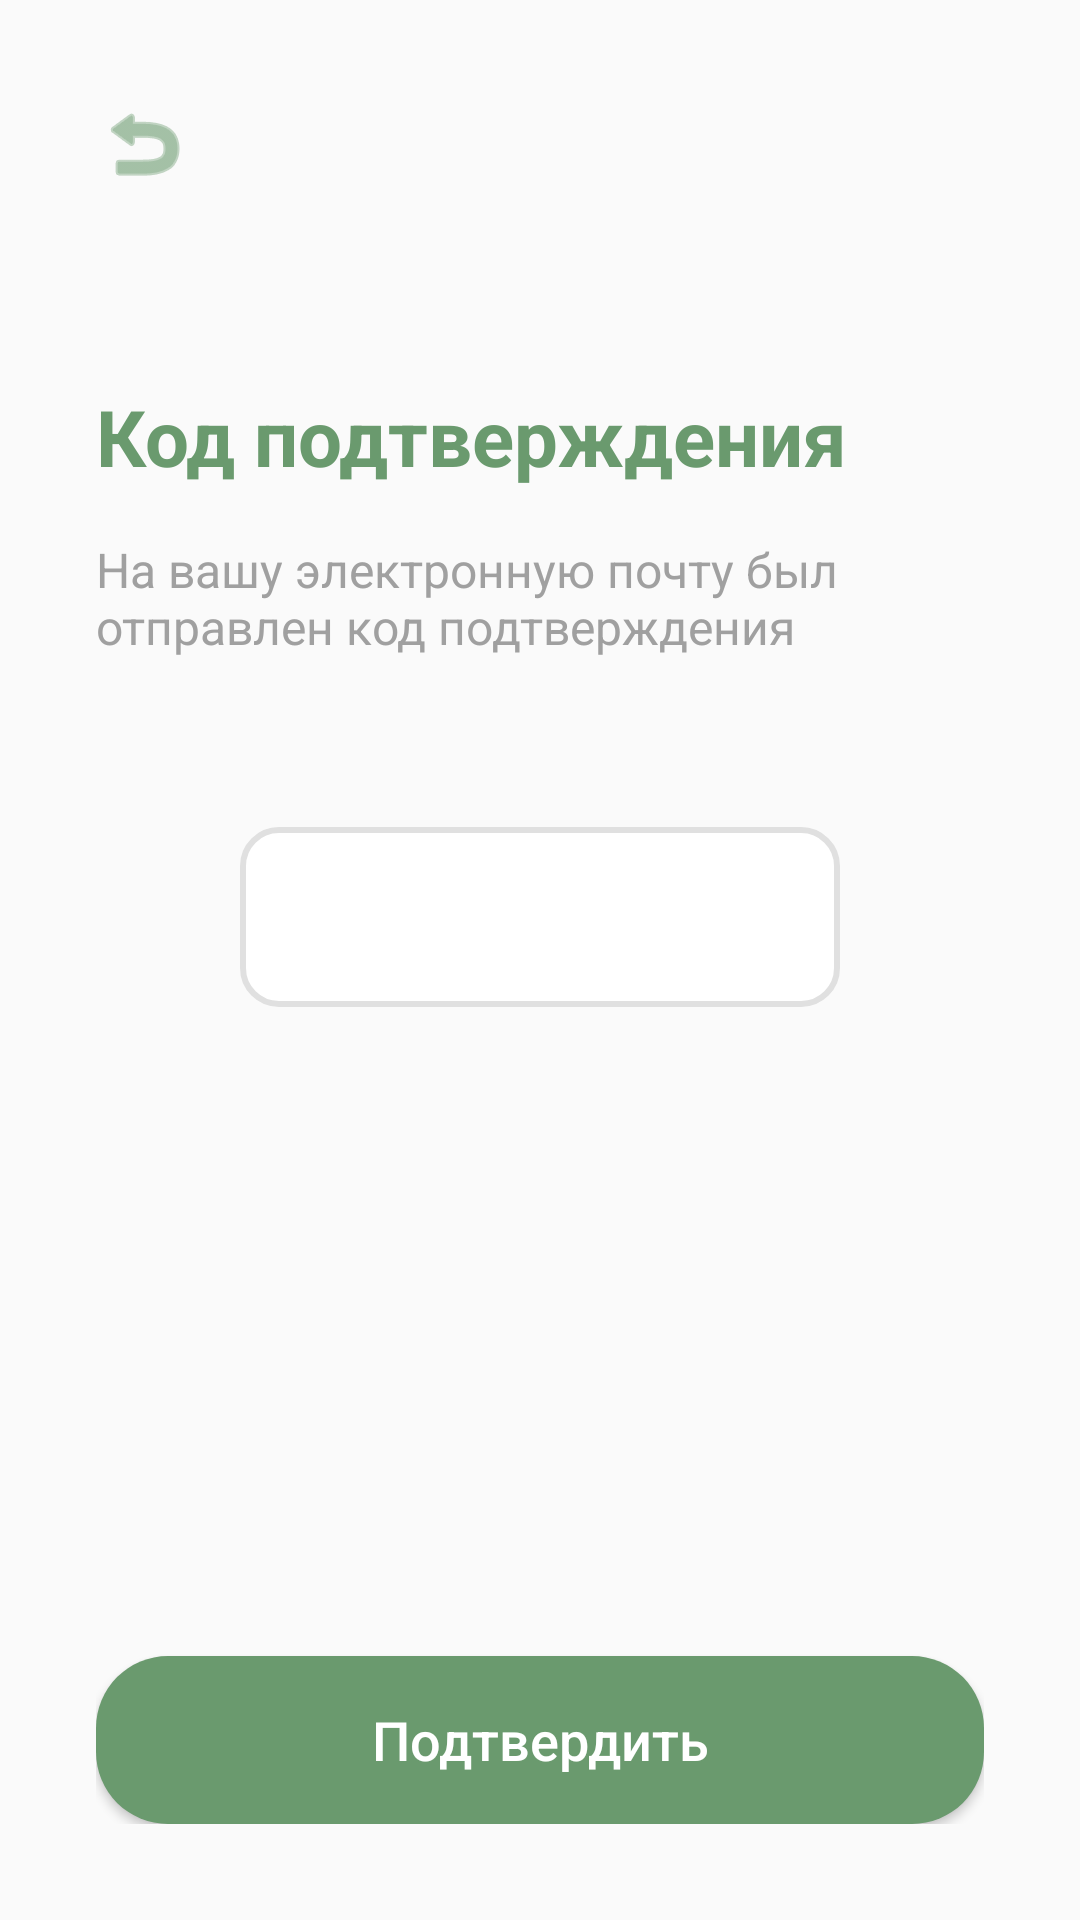

Point at icon controls on the screen. Image size 1080px x 1920px, points as point (x, y).
revert: point (145, 145)
